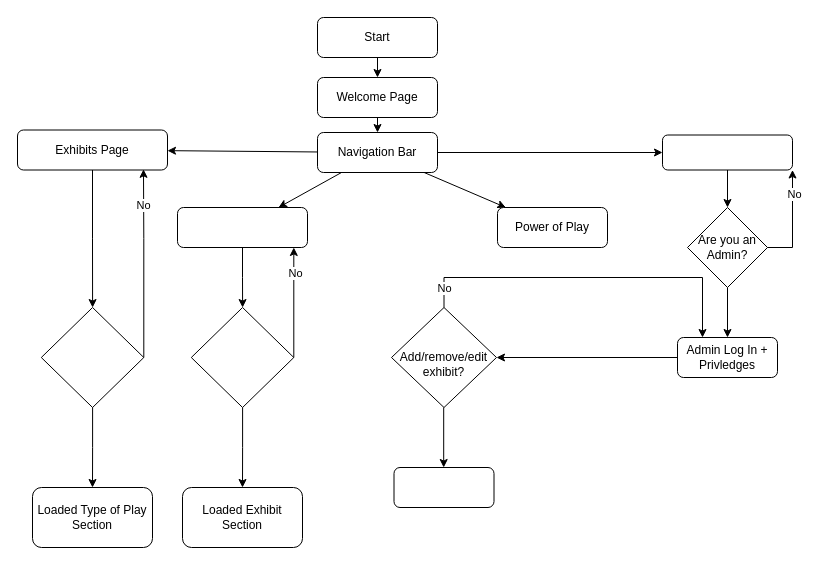
This 818x565 diagram has some shape labels left out. The shapes that lost their labels are listed below. From the top down, each one's box as (x1, y1, x2, y2) in pixels, then its label:
(662, 134, 792, 170): Admin Page
(176, 206, 308, 248): Museum UI (Map)
(40, 306, 144, 408): Tap on type of play
(190, 306, 294, 408): Tap on desired exhibit
(393, 466, 494, 508): Edited page
